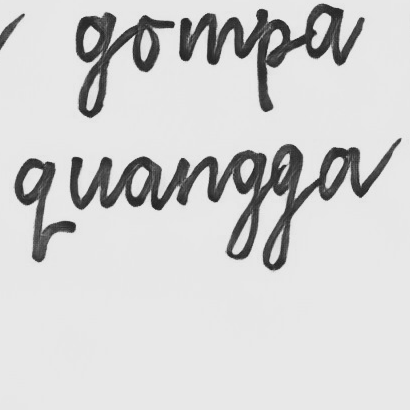a: (316, 141, 362, 203), (122, 154, 164, 211)
g: (260, 140, 306, 274), (223, 149, 269, 262)
n: (171, 155, 222, 207)
q: (11, 156, 58, 265)
u: (67, 154, 115, 212)
